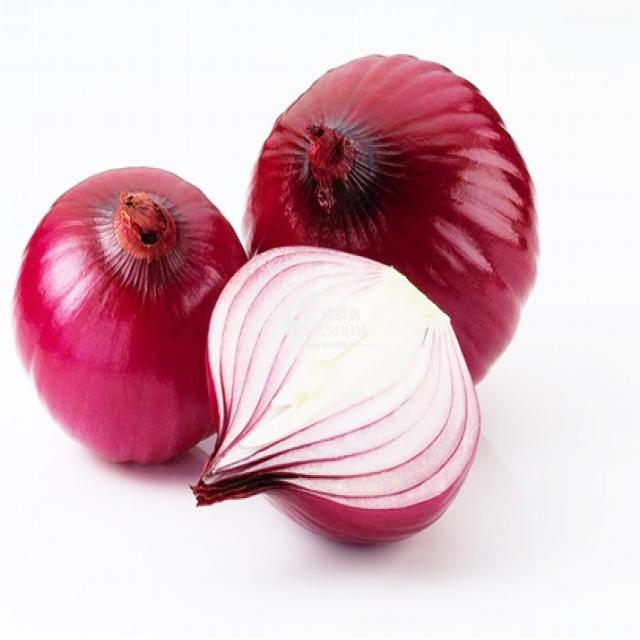onion: (191, 54, 540, 549), (241, 54, 542, 387), (11, 165, 249, 470)
